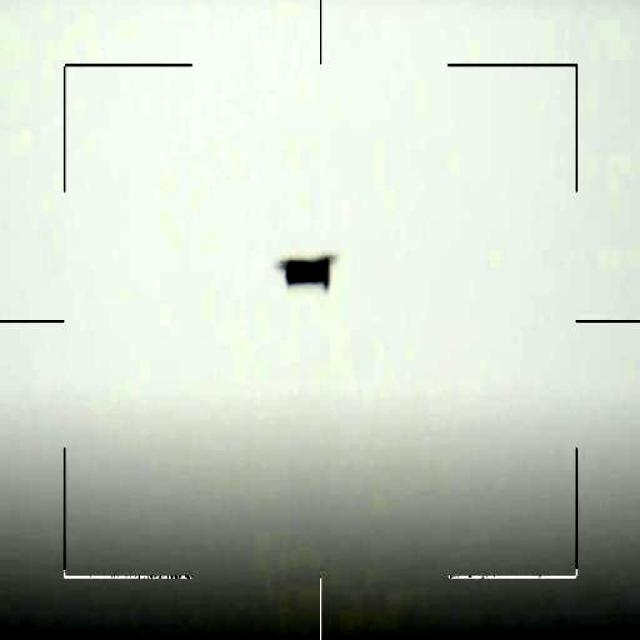bird: (280, 256, 338, 294)
